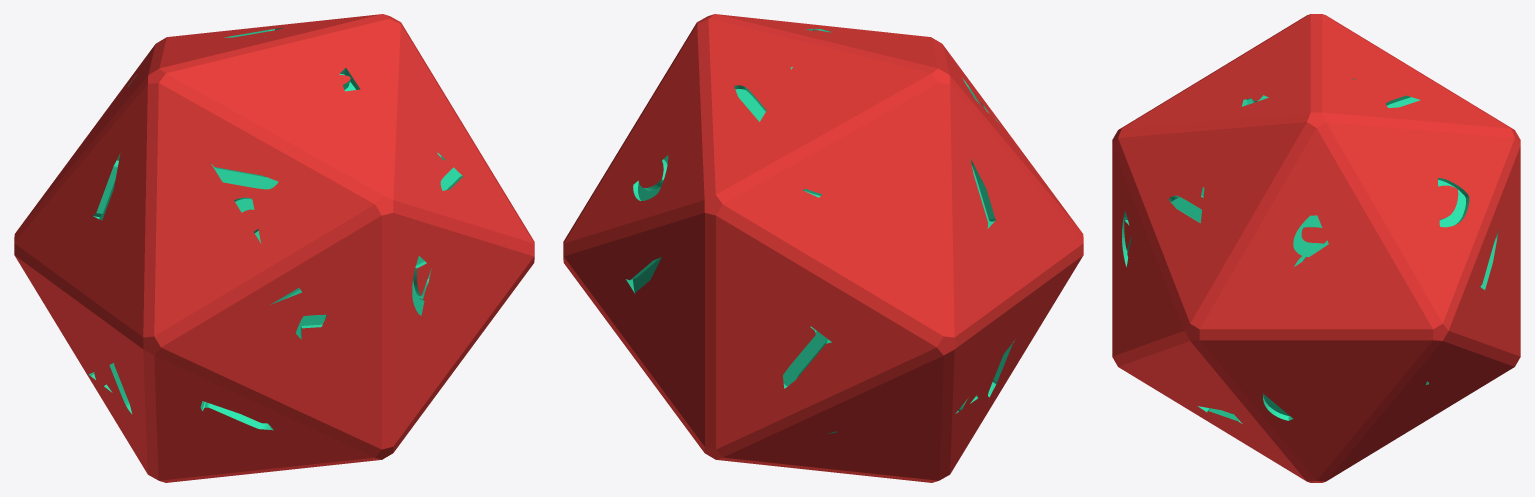
3 renders of one model, left to right at view 1: azimuth 30°, elevation 25°; view 2: azimuth 150°, elevation 25°; view 3: azimuth 270°, elevation 25°, orthographic. The views are drawn at different scales.
Parts seen in each view (by area): view 1: Solid.005; view 2: Solid.005; view 3: Solid.005.
Boxes of the visible parts, bbox=[...] form: Solid.005: bbox=[14, 14, 534, 482]; Solid.005: bbox=[563, 14, 1083, 482]; Solid.005: bbox=[1112, 14, 1520, 482].
Size of the model in its own units: 194 by 194 by 194.
